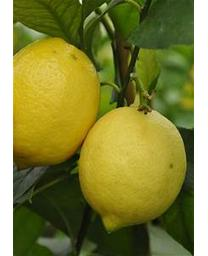lemon: (78, 104, 188, 233), (14, 38, 100, 166)
